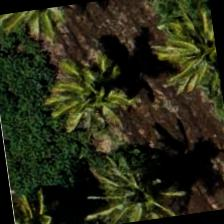Kelapa_Sawit: (41, 41, 143, 144), (87, 143, 188, 223), (160, 10, 222, 106), (9, 175, 92, 223)
